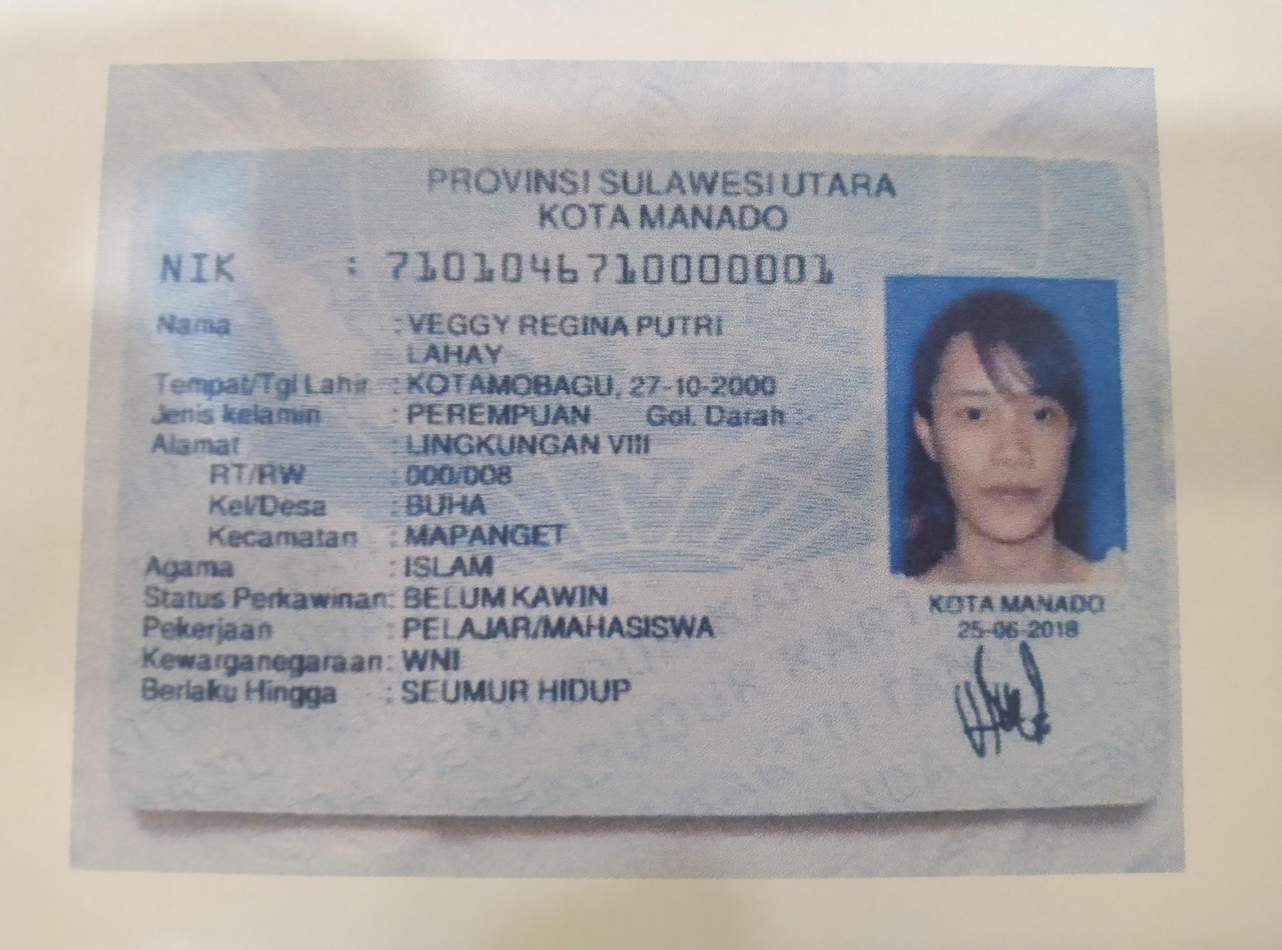ID-card: (112, 155, 1147, 801)
